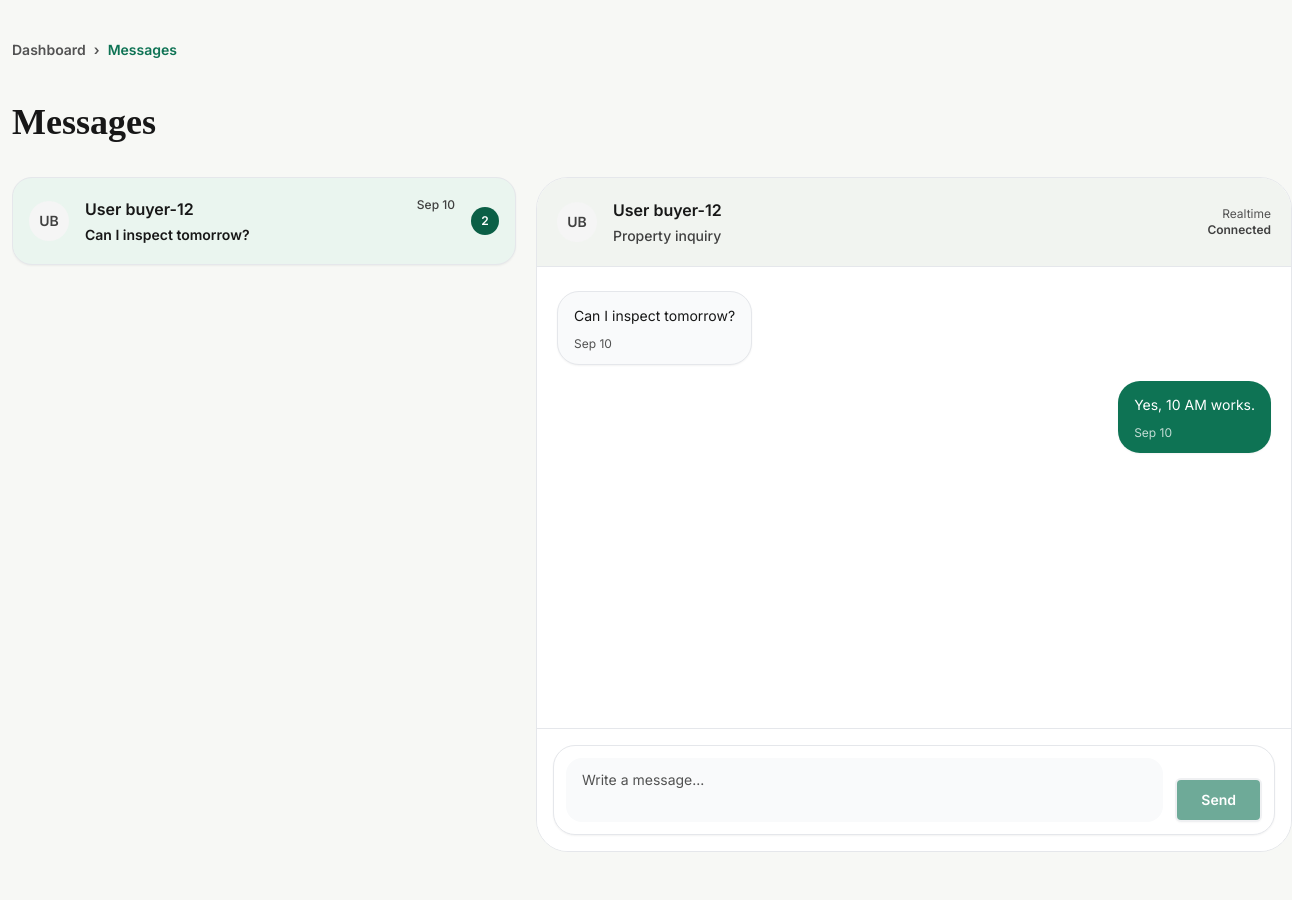
Test: Reality messages › retries a rejected realtime message with its original deduplication ID
Check: the text "Yes, 10 AM works." is shown, box [1134, 393, 1255, 417]
Type "I will confirm shortly." into the text box labelled "Write a message". click: (865, 790)
box: [566, 758, 1163, 822]
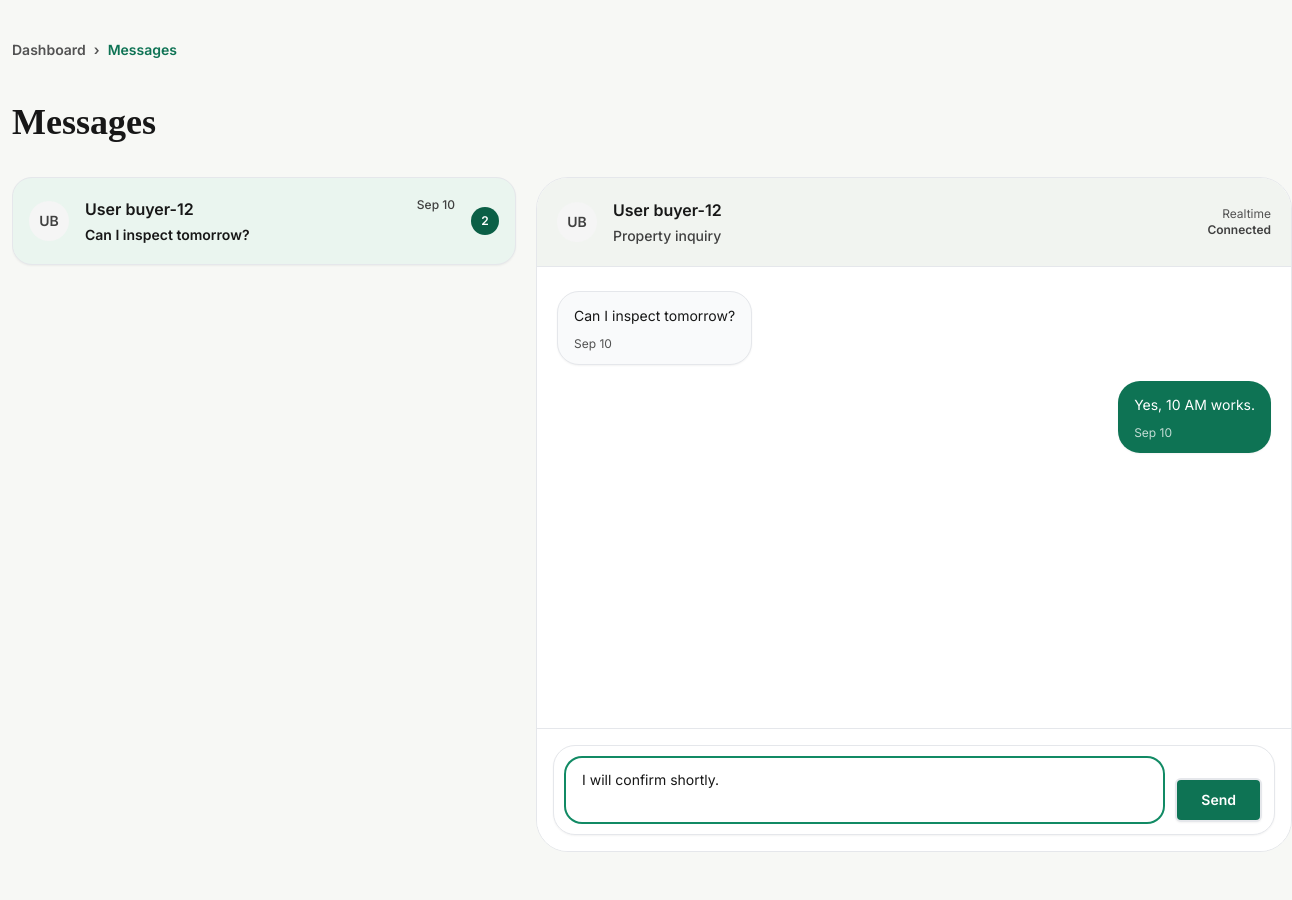
Click the button "Send". click: (1219, 800)
box: [1175, 778, 1262, 822]
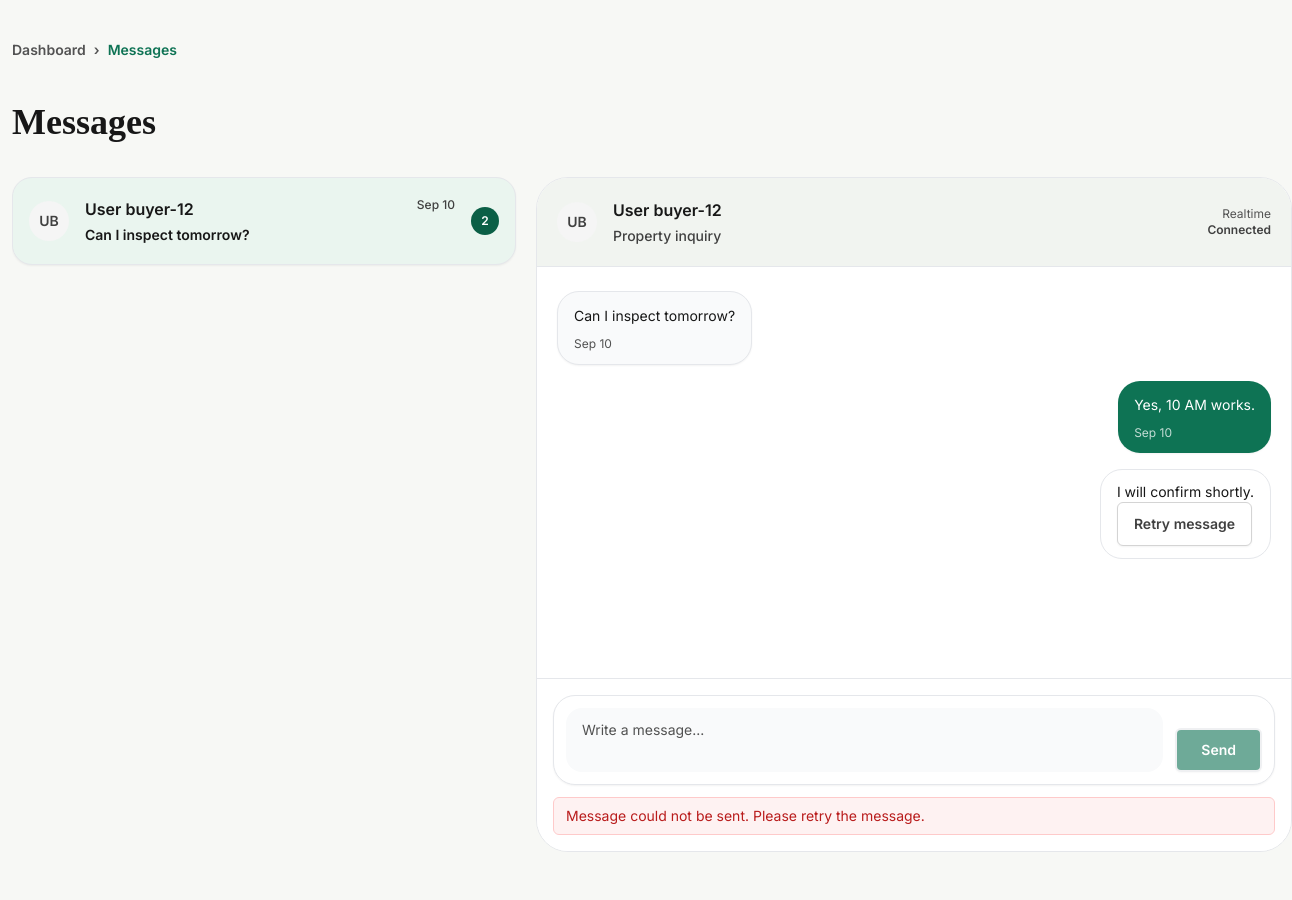
Type "New draft" into the text box labelled "Write a message". click: (865, 740)
box: [566, 708, 1163, 772]
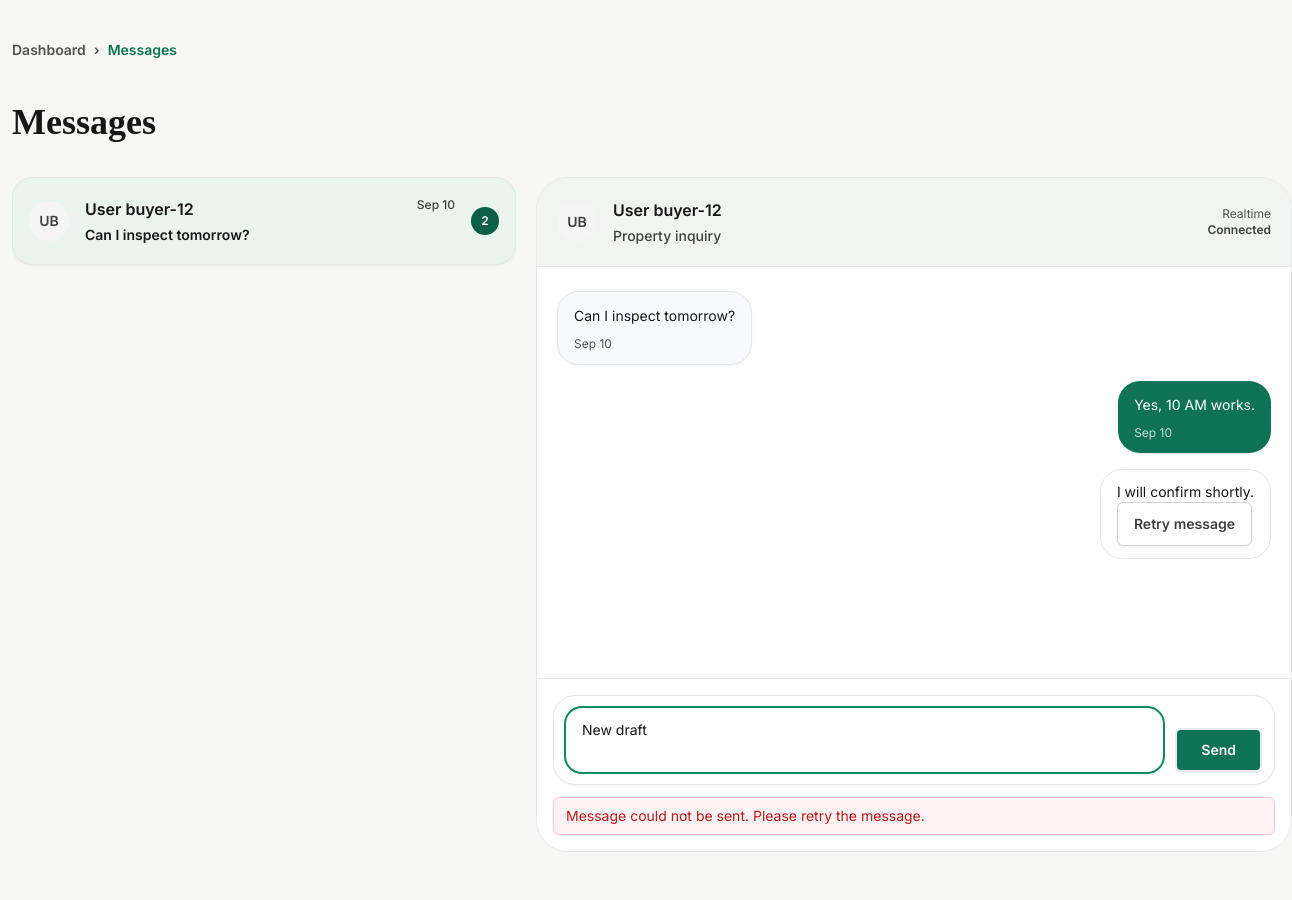
Click the button "Retry message". click: (1184, 524)
box: [1117, 502, 1252, 546]
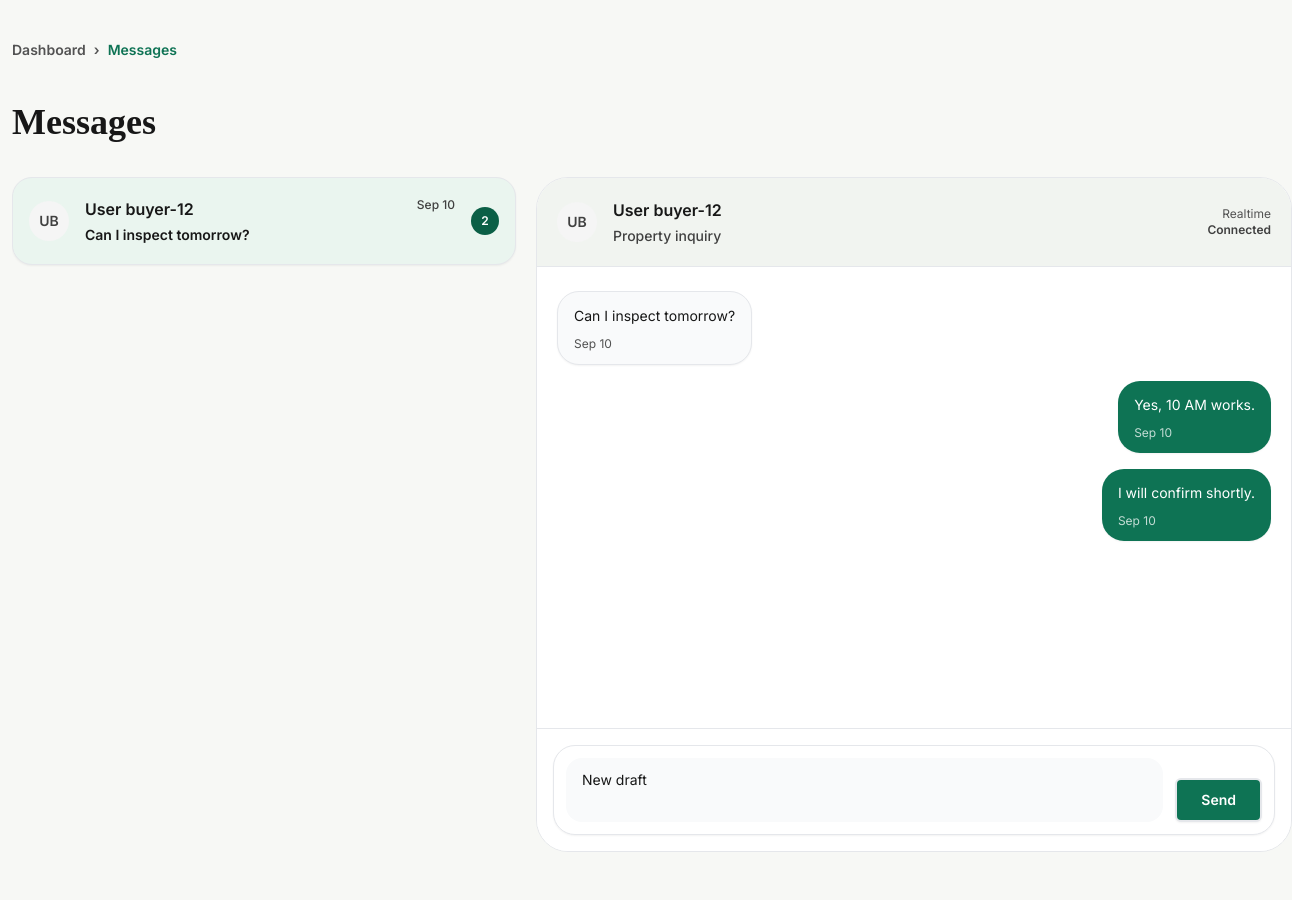
Check: the button "Retry message" is gone
